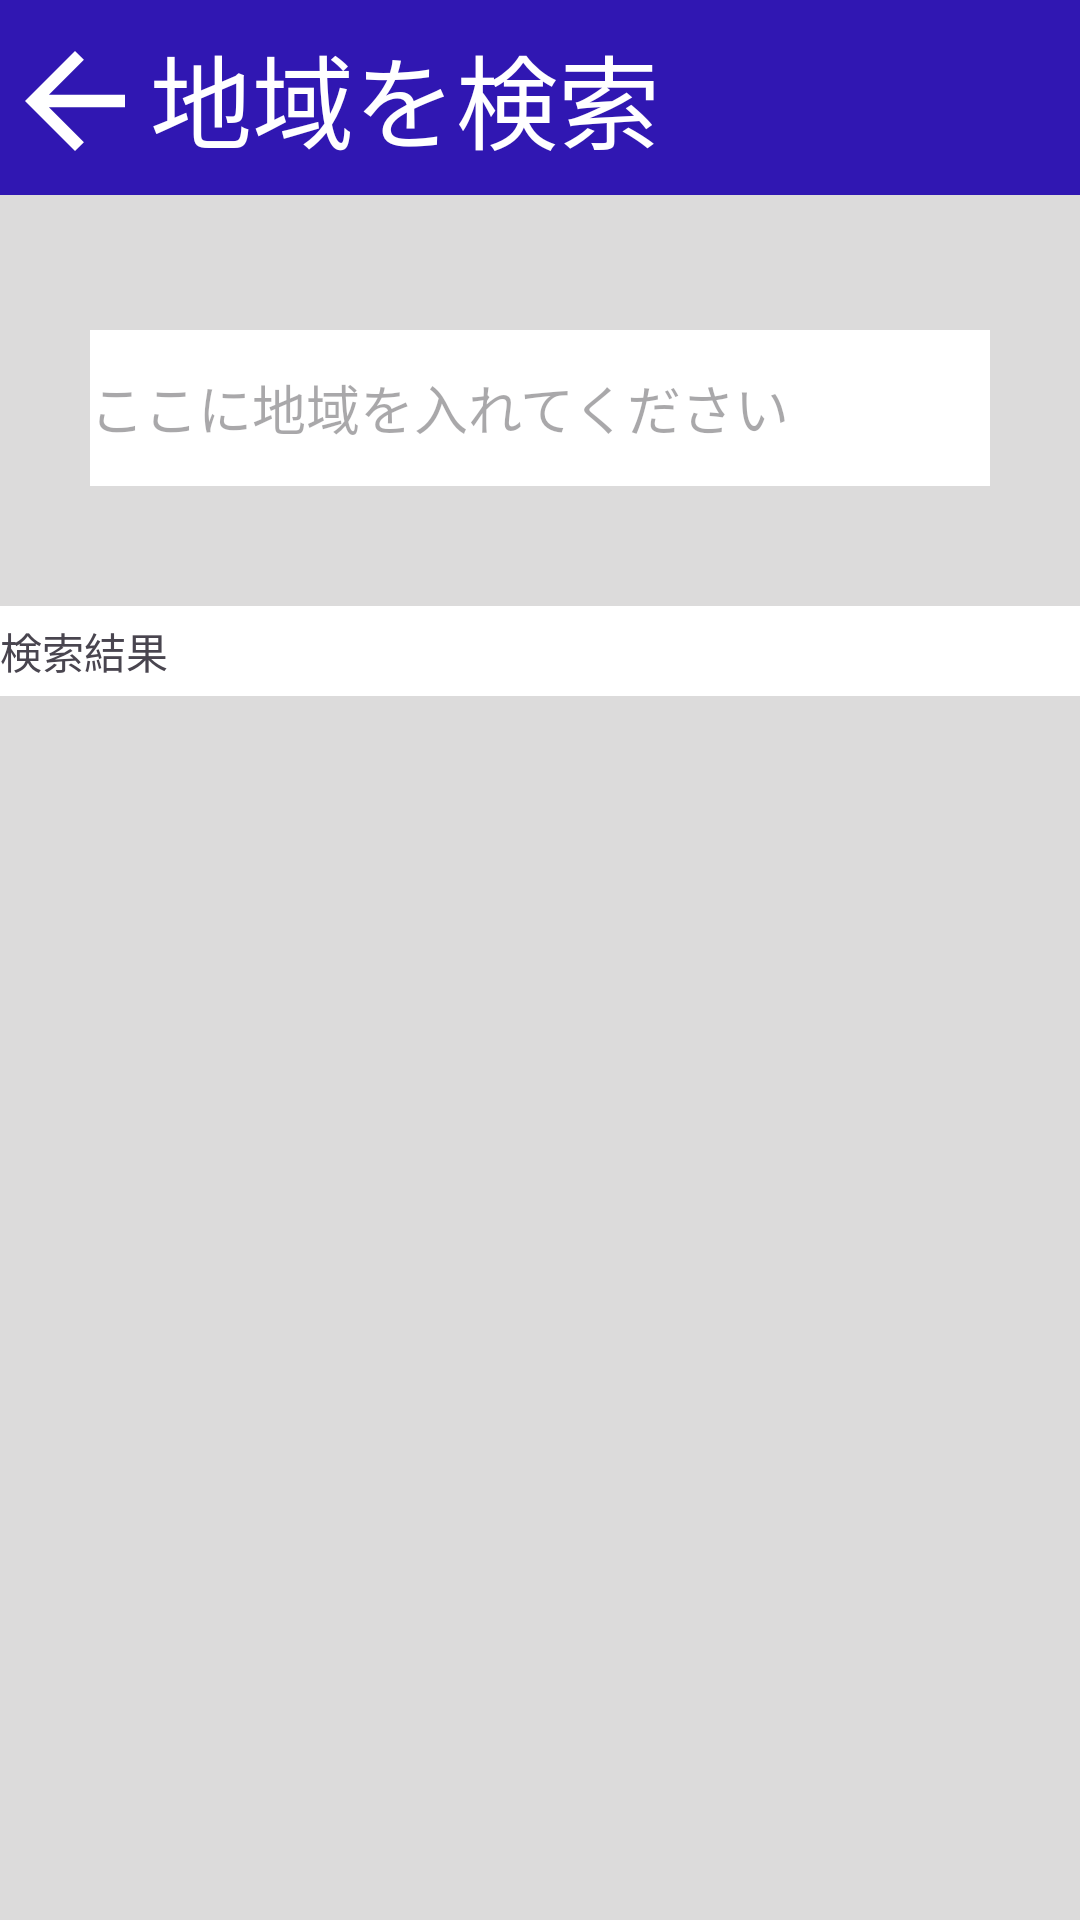

Icons on this 1080 × 1920 Android screen, each with the point to tap as [x,y]:
arrow back: [75,100]
